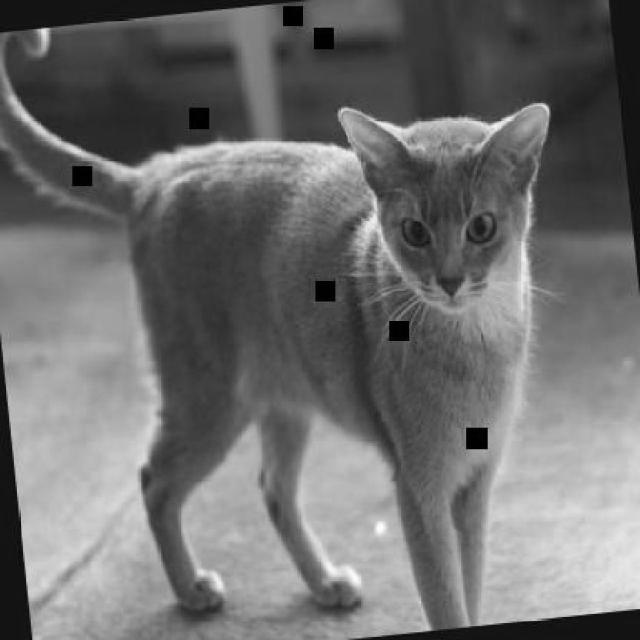Cat: (0, 83, 603, 639)
